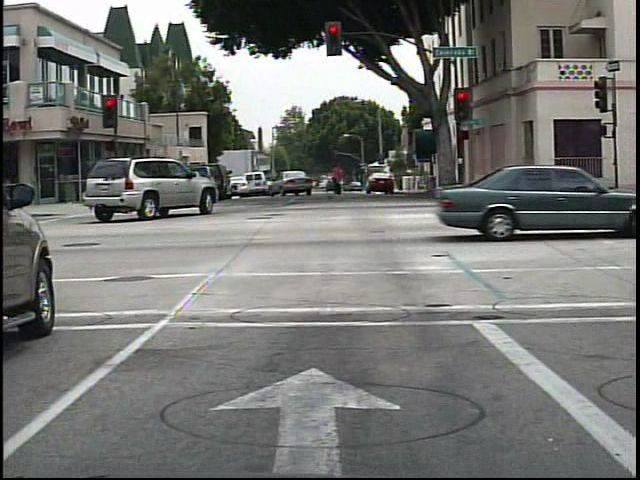person: (326, 157, 352, 203)
